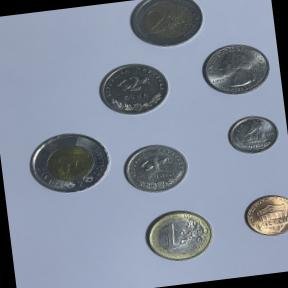1 Euro: (138, 202, 219, 268)
2 Euro: (123, 0, 208, 57)
Canda-10cent-: (221, 109, 285, 160)
Canda-2Dollar-: (19, 124, 119, 203)
Croatia-2Kune-: (92, 56, 178, 122)
US-1cent-: (237, 190, 288, 243)
US-25cent-: (195, 37, 276, 103)
